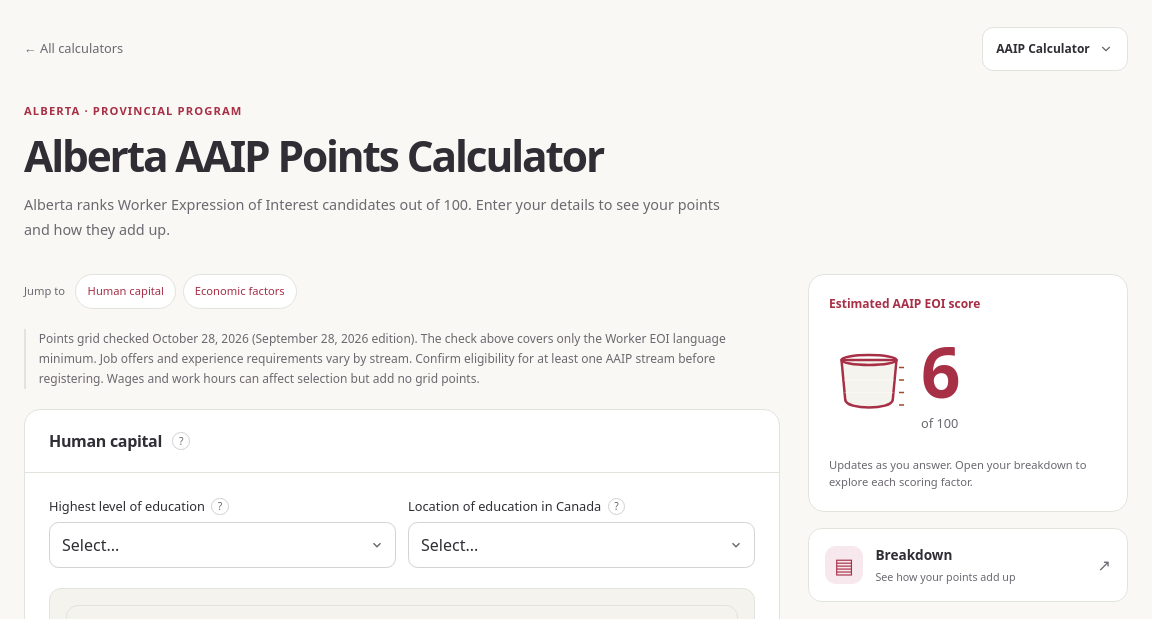
Test: AlbertaTool › checks the WEOI language floor without inventing a universal job-offer requirement
The width and height of the screenshot is (1152, 619).
Select "Bachelor's degree" in the dropdown named "Highest level of education": (222, 545) [49, 522, 396, 568]
(page scrolled)
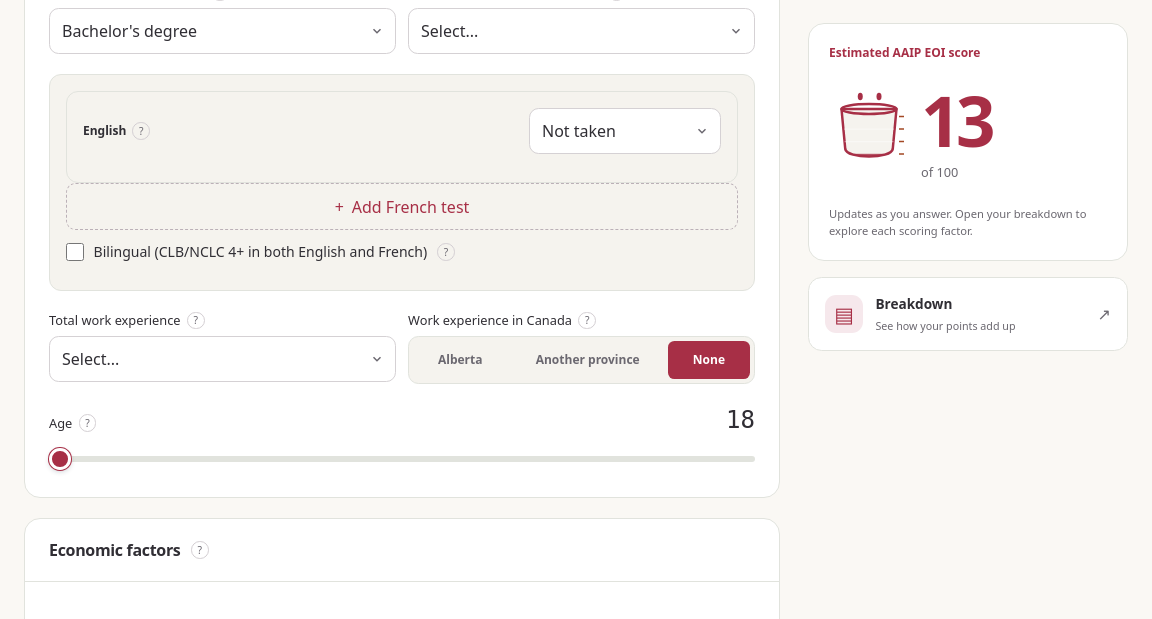
Select "12 or more months" in the dropdown named "Total work experience": (222, 359) [49, 336, 396, 382]
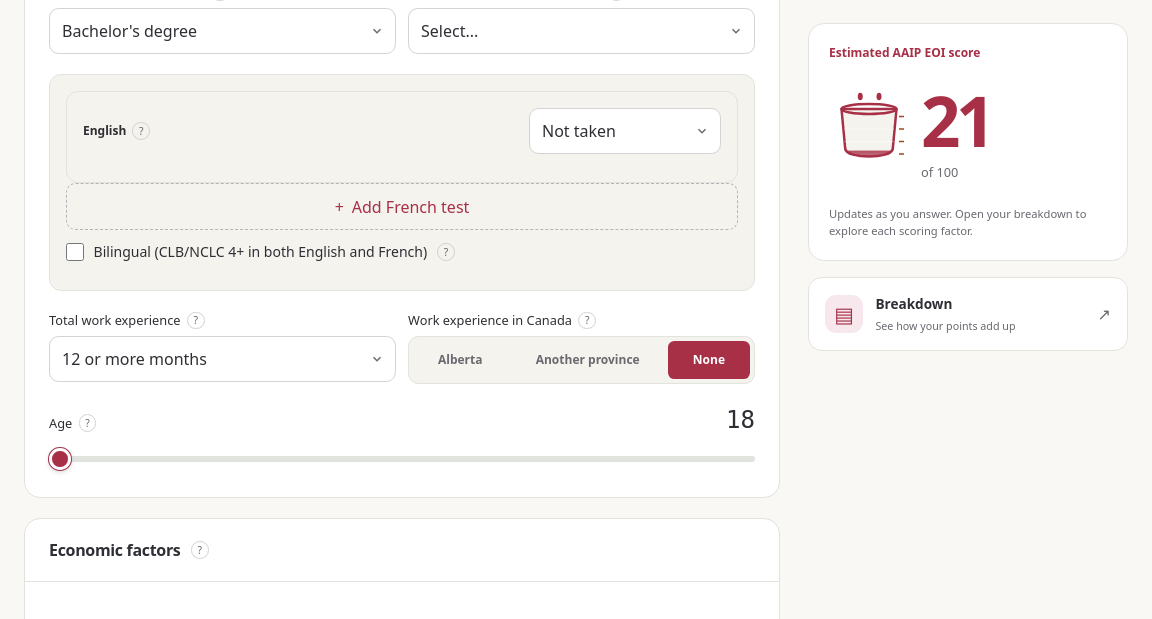
Set the slider to "30": (254, 459) [49, 456, 755, 462]
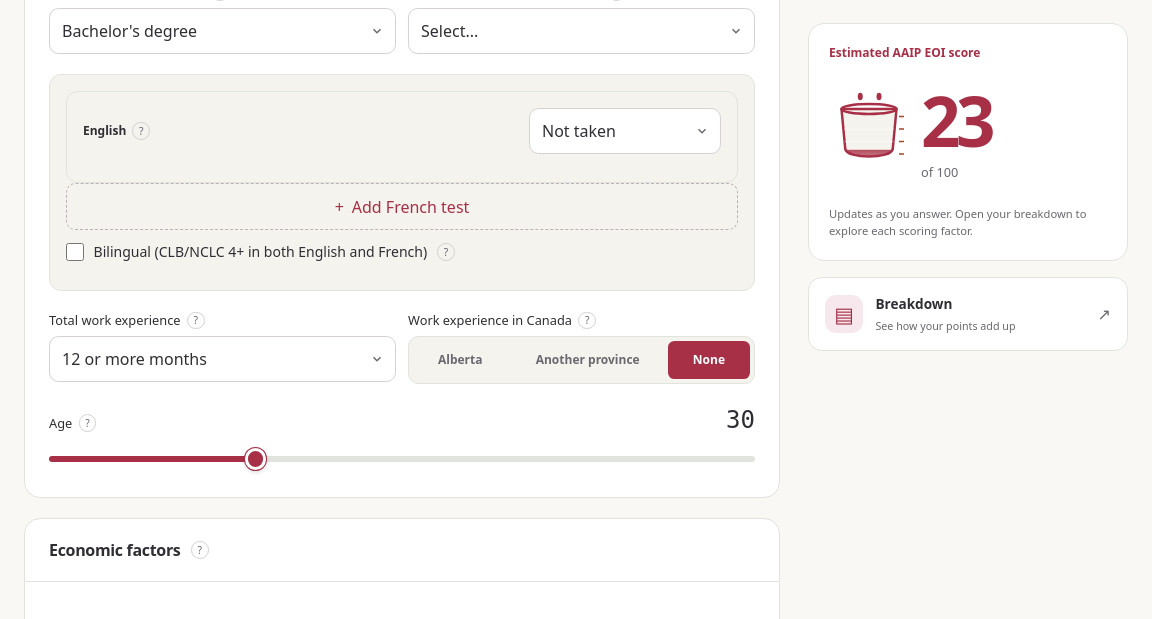
Select "IELTS General" in the dropdown named "English test": (625, 131) [529, 108, 721, 154]
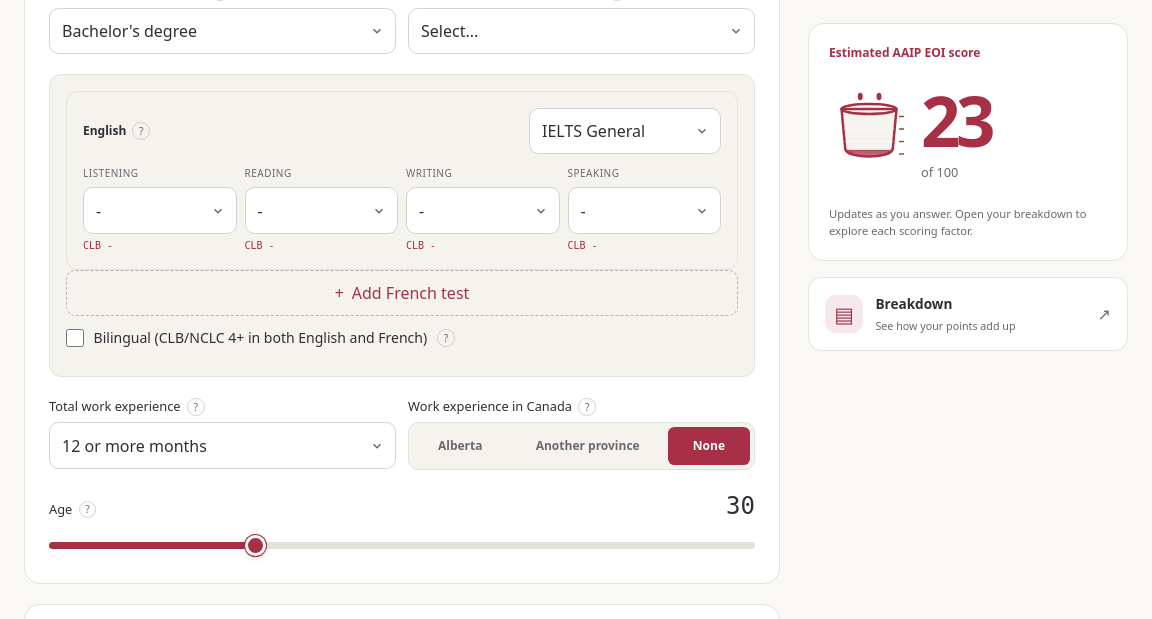
Select "6.0" in the dropdown named "English listening": (160, 211) [83, 187, 236, 234]
Select "6.0" in the dropdown named "English reading": (321, 211) [244, 187, 398, 234]
Select "6.0" in the dropdown named "English writing": (483, 211) [406, 187, 560, 234]
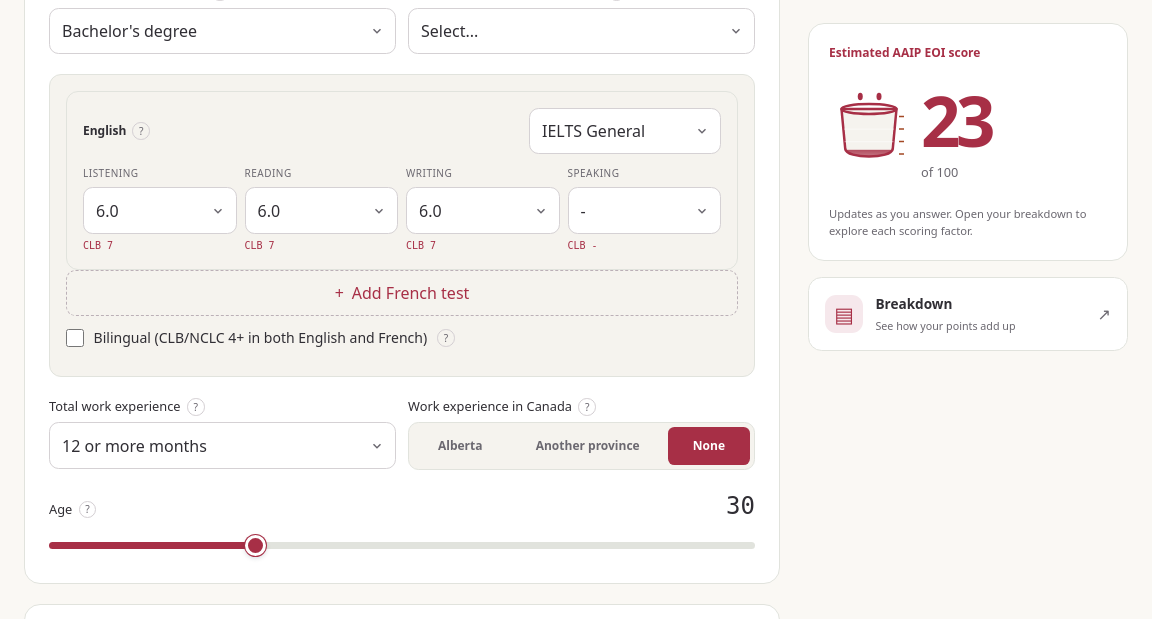
Select "6.0" in the dropdown named "English speaking": (644, 211) [568, 187, 721, 234]
(page scrolled)
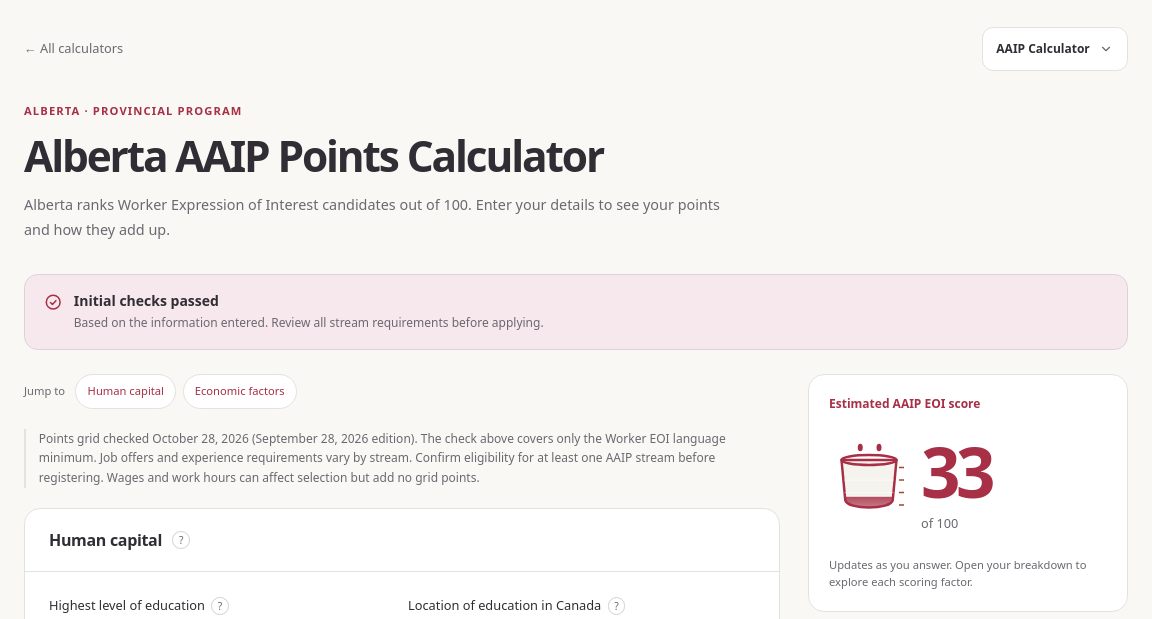
Check: the text "Initial checks passed" is shown, box [74, 291, 219, 310]
